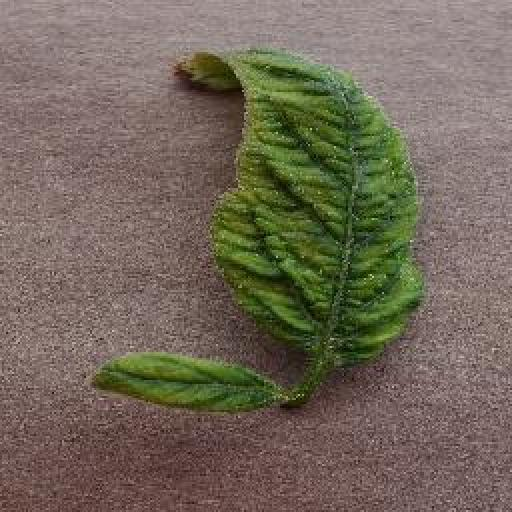disease_tomato: (175, 52, 424, 369), (88, 350, 283, 414)
